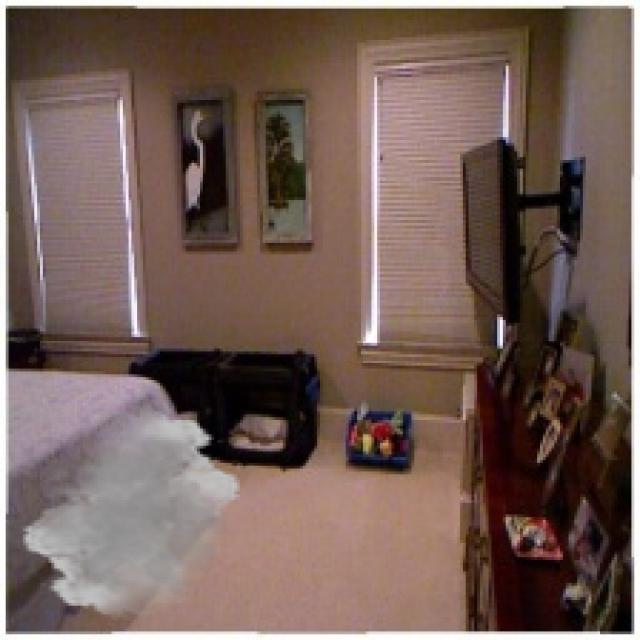Smoke: (20, 406, 243, 620)
